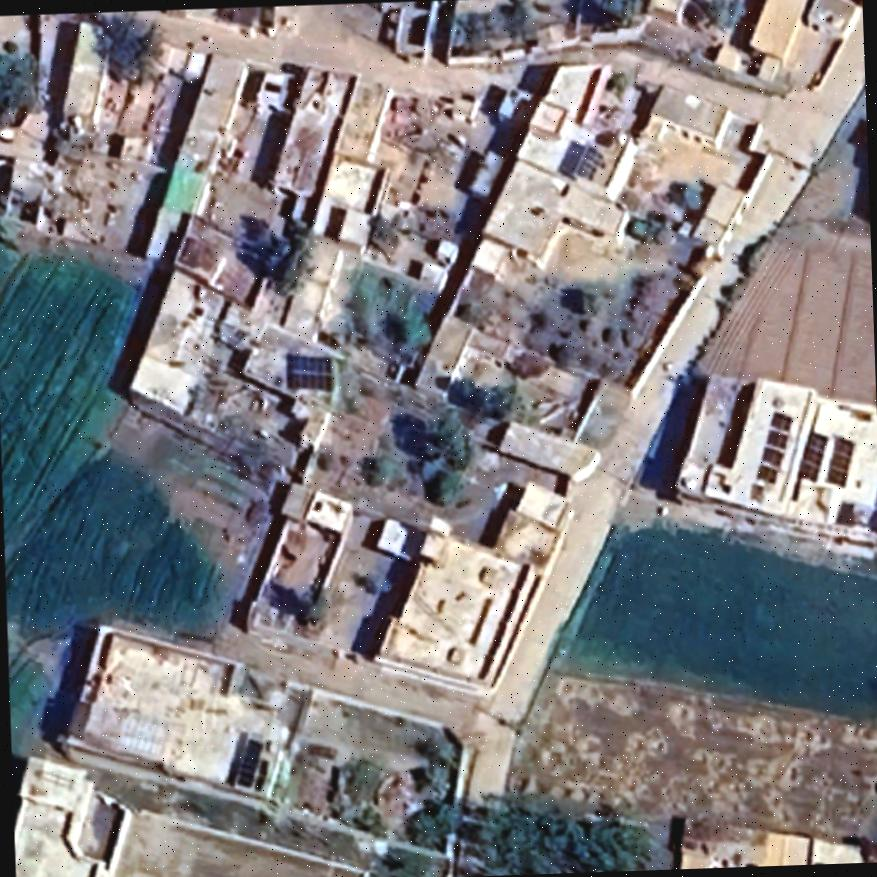Solarpanel: (747, 405, 798, 490), (550, 133, 608, 187), (278, 348, 337, 396), (790, 422, 832, 488), (820, 430, 858, 492), (568, 136, 609, 184)
